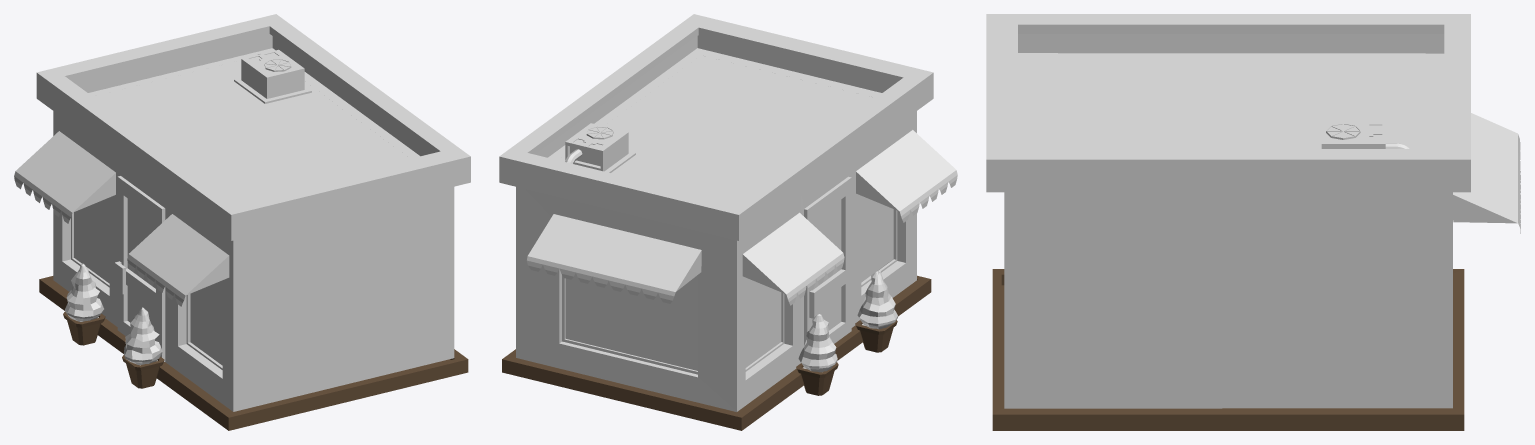
Rendered from casetta tende arancio.fbx.
3 views of the same model, side by side, from view 1: azimuth 30°, elevation 25°; view 2: azimuth 150°, elevation 25°; view 3: azimuth 270°, elevation 25° (orthographic). The views are drawn at different scales.
Parts seen in each view (by area): view 1: tetto, casa base, tenda frontale piccola, base, porta, cespugli, vetro sx, vetro dx, cassetta.001, vetri porta, piante, base.002; view 2: tetto, casa base, tenda frontale piccola, tenda frontale.001, vetro facciata sxx, base, porta, cespugli, vetro sx, vetro dx, cassetta.001, vetri porta (+1 smaller); view 3: casa base, tetto, base, tenda frontale.001, cassetta.001.
Part boxes in pixels (x1,y1,x2,y2): tetto: [36, 14, 470, 240]; casa base: [53, 111, 454, 411]; tenda frontale piccola: [14, 131, 229, 306]; base: [39, 276, 468, 430]; porta: [114, 176, 165, 361]; cespugli: [65, 263, 162, 364]; vetro sx: [74, 197, 109, 283]; vetro dx: [190, 280, 222, 365]; cassetta.001: [241, 49, 304, 98]; vetri porta: [127, 198, 155, 340]; piante: [63, 311, 164, 388]; base.002: [234, 78, 311, 103]; tetto: [499, 14, 933, 240]; casa base: [516, 111, 916, 411]; tenda frontale piccola: [742, 130, 957, 305]; tenda frontale.001: [527, 214, 701, 303]; vetro facciata sxx: [565, 272, 697, 370]; base: [502, 275, 931, 430]; porta: [804, 176, 851, 345]; cespugli: [798, 271, 897, 372]; vetro sx: [745, 278, 781, 367]; vetro dx: [861, 196, 893, 282]; cassetta.001: [565, 123, 628, 171]; vetri porta: [813, 200, 841, 330]; casa base: [1004, 192, 1452, 408]; tetto: [986, 14, 1470, 192]; base: [992, 269, 1464, 430]; tenda frontale.001: [1453, 113, 1520, 233]; cassetta.001: [1321, 121, 1385, 148].
Bounding box in the file's own units: 437 × 331 × 589.
